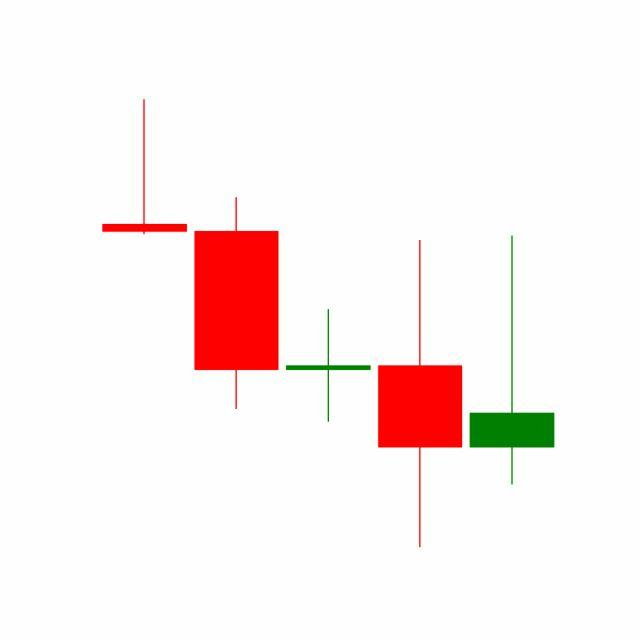Spinning Top: (466, 233, 559, 488)
